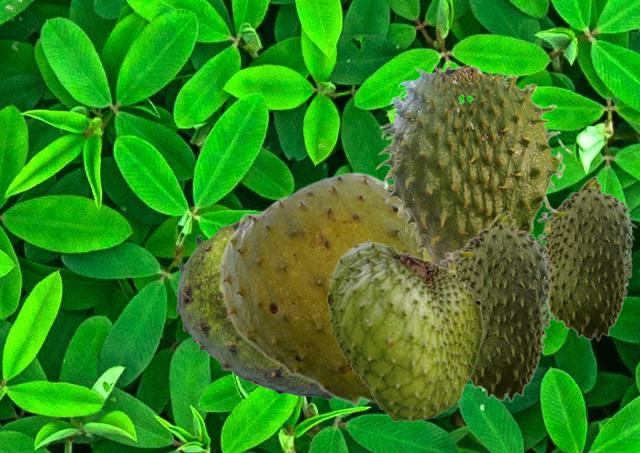guyabano: (215, 171, 422, 409), (375, 63, 572, 267), (327, 238, 482, 421), (174, 220, 332, 399), (440, 209, 555, 401), (537, 175, 636, 340)
